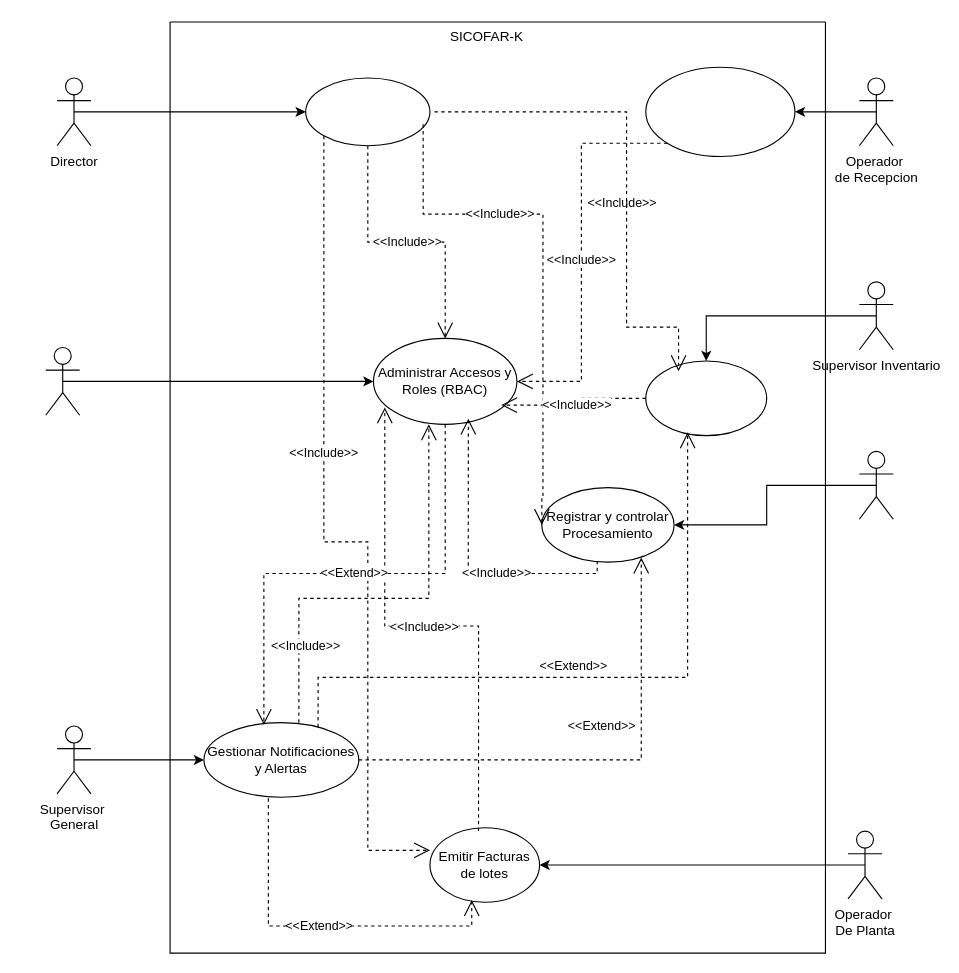
The diagram is 959 pixels wide and 973 high, and some of its shapes have lost their labels. The shapes that lost their labels are listed below. From the top down, each one's centre as x and y in pixels, then its label:
At (367,111): "Generar y Exportar Reportes".
At (720,111): "Registro Ingreso de material".
At (62,380): "Administrador Del Sistema".
At (706,398): "Gestionar Inventario Multietapa".
At (875,484): "Analista".
